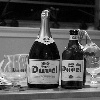beer: (28, 8, 58, 92)
